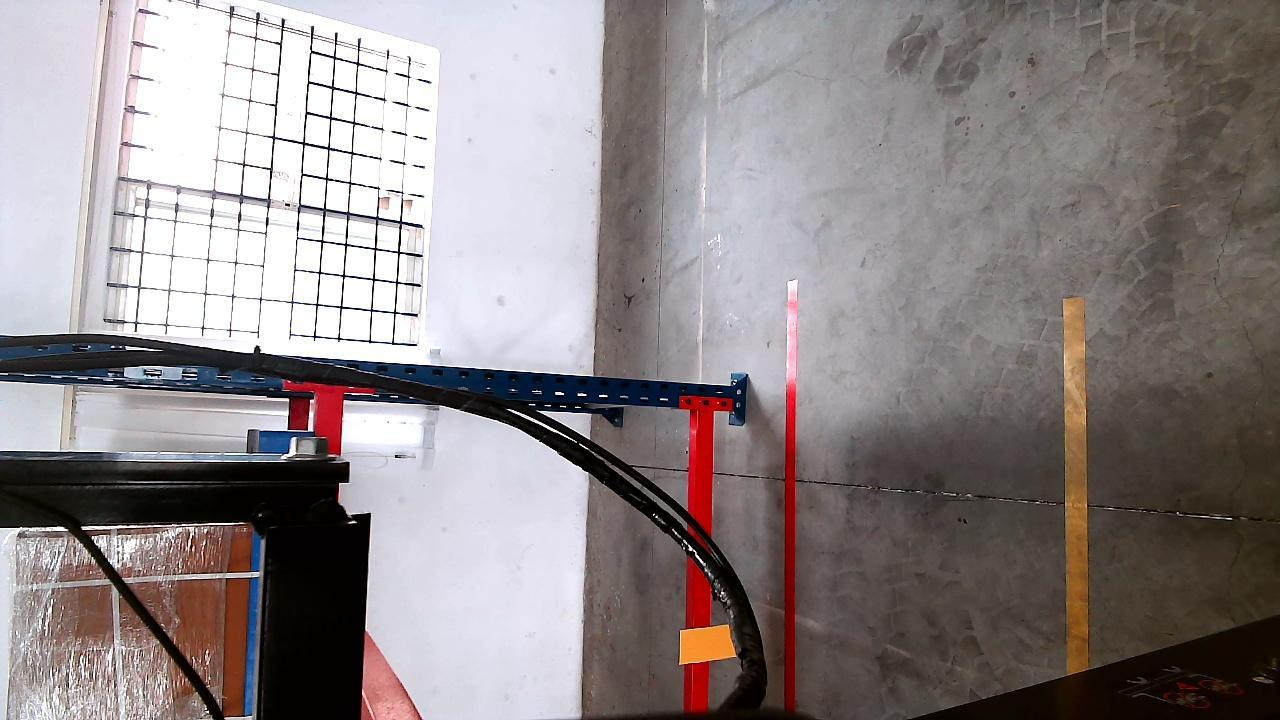red_line: (784, 280, 801, 710)
yellow_line: (1063, 288, 1093, 679)
